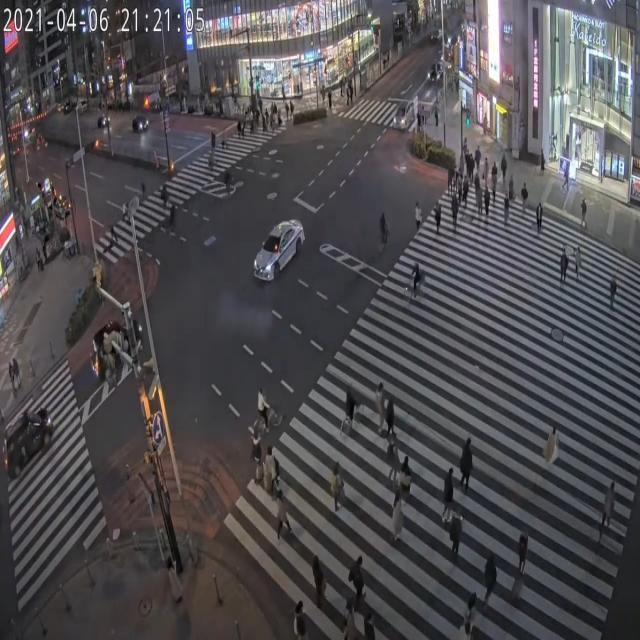bicycle: (249, 381, 284, 441), (334, 380, 368, 440), (400, 263, 430, 304), (376, 207, 392, 256)
humans: (310, 540, 332, 614), (404, 189, 428, 245), (348, 546, 370, 605), (274, 485, 291, 545), (449, 506, 464, 570), (442, 458, 456, 526), (359, 604, 385, 640), (462, 582, 478, 640), (390, 484, 404, 550), (459, 432, 474, 493), (340, 595, 360, 640), (329, 455, 344, 512), (516, 526, 531, 575), (266, 442, 277, 508), (545, 426, 561, 471), (253, 437, 265, 497), (402, 445, 414, 503), (388, 427, 400, 484), (484, 548, 494, 616), (375, 379, 385, 434), (296, 590, 307, 640), (604, 480, 613, 540), (450, 183, 460, 236), (433, 193, 443, 241), (534, 198, 544, 245), (483, 186, 494, 228), (519, 177, 528, 228), (501, 193, 512, 234), (581, 193, 591, 233), (559, 248, 569, 286), (387, 396, 395, 443), (466, 147, 475, 188), (473, 143, 481, 184), (491, 159, 500, 195), (448, 154, 456, 191), (501, 153, 510, 185), (484, 154, 491, 191), (538, 142, 546, 173), (610, 273, 616, 314), (574, 245, 580, 281), (463, 174, 469, 210), (462, 130, 468, 166), (565, 159, 571, 193), (477, 184, 482, 221)
